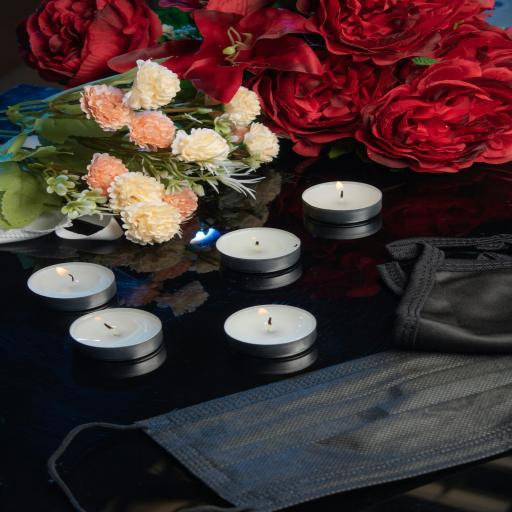candlelight: (19, 248, 119, 306), (68, 308, 162, 358), (215, 228, 300, 274), (301, 181, 383, 224), (224, 306, 312, 346)
